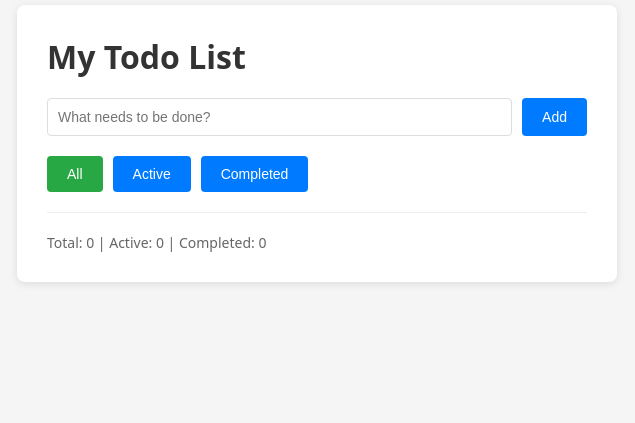
Scenario: App › filters todos and updates stats after a toggle
This screenshot has width=635, height=423.
Step 1. Type "A" into the field with placeholder "What needs to be done?" → (280, 117), box [47,98,512,136]
Step 2. Click the button "Add" → (555, 117), box [522,98,587,136]
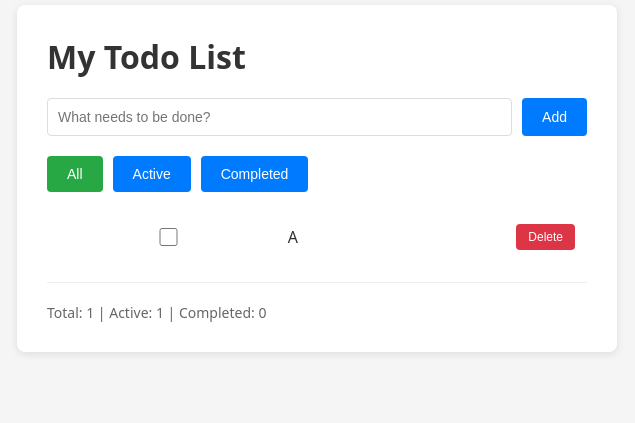
Step 3. Type "B" into the field with placeholder "What needs to be done?" → (280, 117), box [47,98,512,136]
Step 4. Click the button "Add" → (555, 117), box [522,98,587,136]
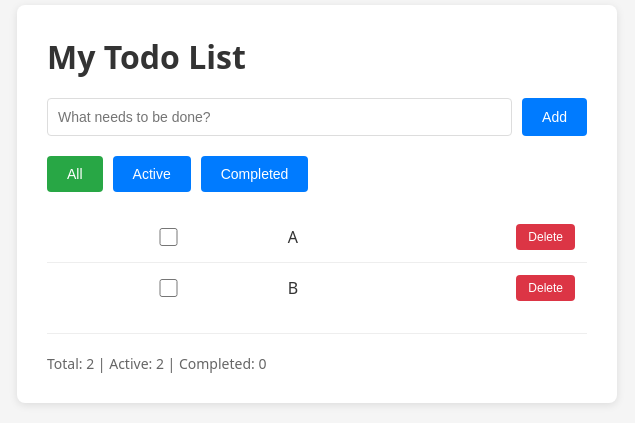
Step 5. Click the checkbox named "Complete \"A\"" → (168, 237), box [59,228,278,246]
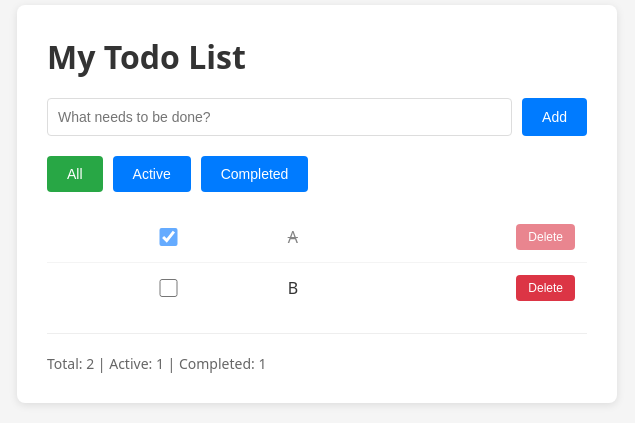
Expected: the text "Total: 2 | Active: 1 | Completed: 1" is shown, [47,354,266,373]
Step 6. Click the button "Active" → (152, 174), box [113,156,191,192]
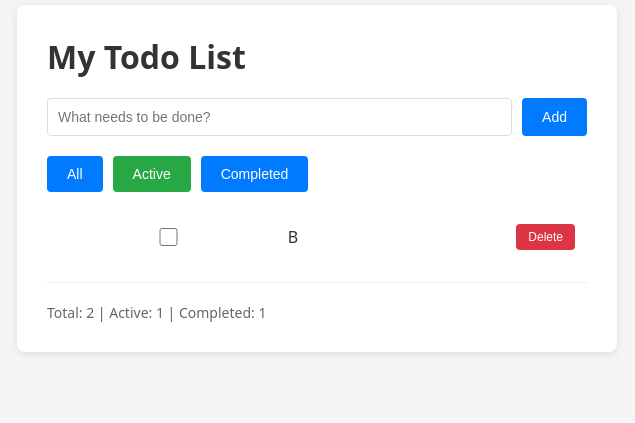
Expected: the text "B" is shown, [288,226,298,248]
Step 7. Click the button "Completed" → (255, 174), box [201,156,308,192]
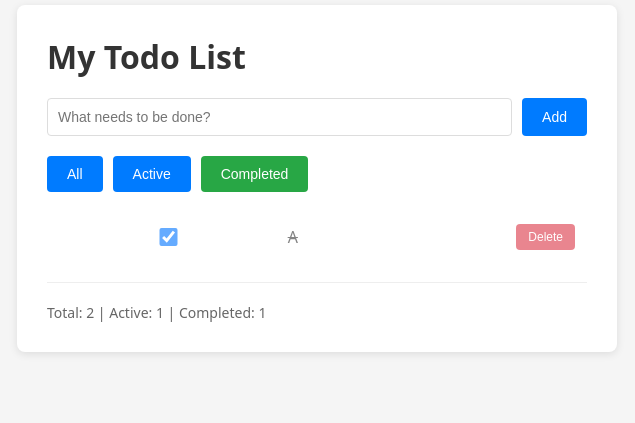
Expected: the text "A" is shown, [288,226,298,248]
Step 8. Click the button "All" → (75, 174), box [47,156,103,192]
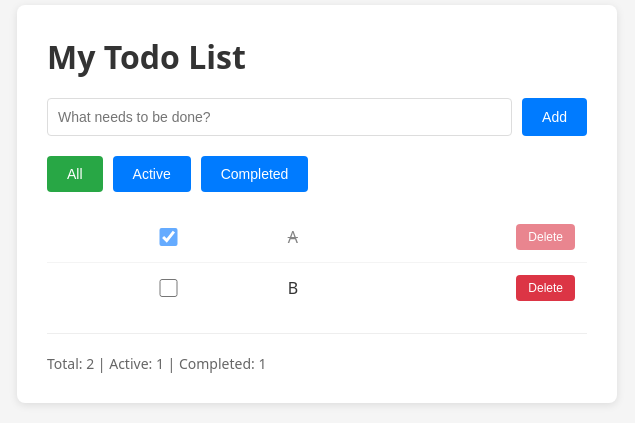
Expected: the text "A" is shown, [288,226,298,248]
Expected: the text "B" is shown, [288,277,298,299]
